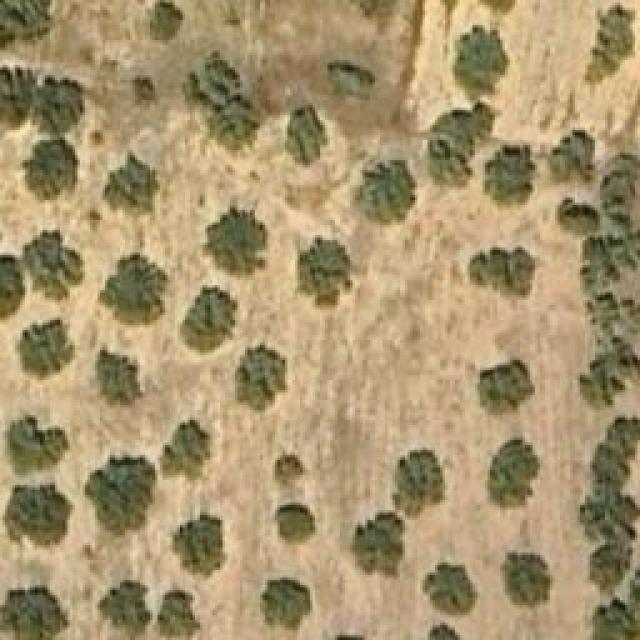Tree: (85, 455, 158, 538), (430, 105, 493, 188), (100, 253, 170, 326), (20, 233, 85, 303), (203, 207, 268, 275), (577, 337, 640, 404), (470, 248, 535, 311), (422, 555, 480, 623), (585, 5, 635, 83), (355, 160, 415, 225), (8, 485, 71, 545), (183, 285, 238, 353), (393, 448, 443, 521), (300, 237, 353, 305), (353, 510, 406, 578), (0, 587, 67, 640), (595, 562, 640, 640), (8, 415, 68, 473), (455, 28, 508, 93), (180, 50, 239, 108), (235, 345, 285, 413), (488, 440, 538, 508), (173, 513, 226, 576), (20, 318, 75, 378), (98, 580, 153, 640), (33, 75, 88, 133), (477, 360, 535, 415), (28, 138, 78, 201), (105, 155, 158, 213), (208, 95, 261, 153), (485, 145, 535, 205), (160, 418, 210, 478), (260, 578, 313, 633), (500, 553, 550, 608), (98, 350, 143, 410), (285, 105, 328, 165), (547, 130, 595, 183), (0, 0, 52, 47), (268, 503, 318, 546), (602, 170, 640, 223), (158, 593, 201, 638), (555, 197, 595, 235), (328, 63, 371, 98), (0, 258, 25, 318), (150, 3, 183, 43), (275, 453, 305, 488), (133, 78, 158, 108)
